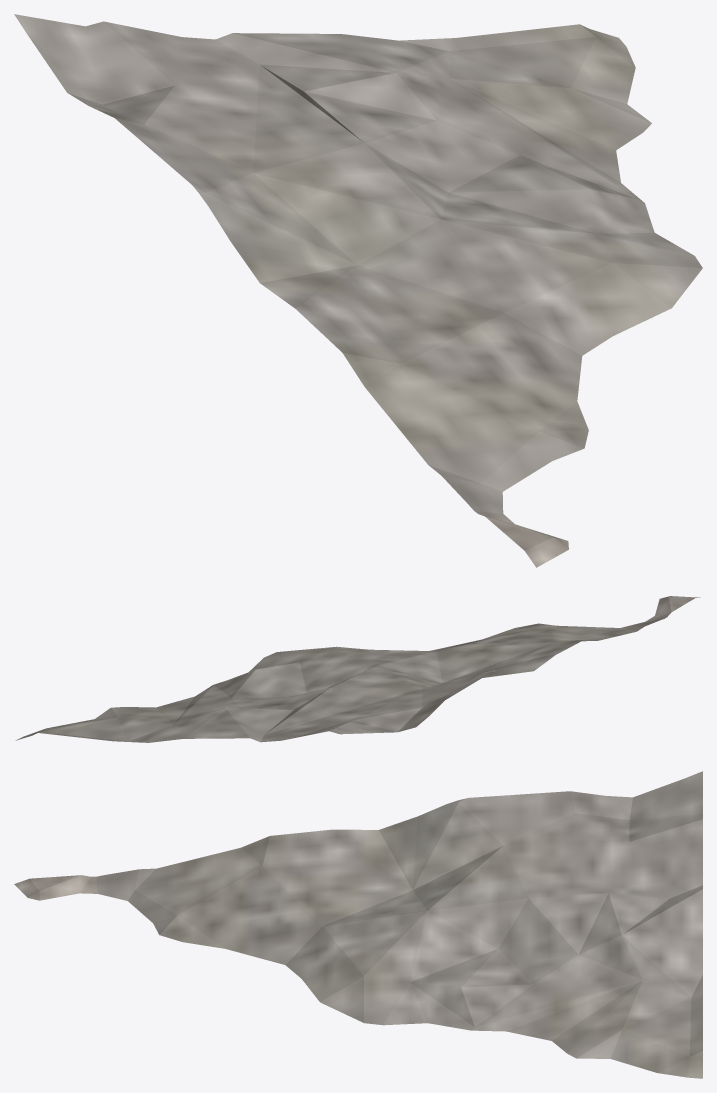
The picture shows the model from 3 angles, top to bottom: view 1: azimuth 30°, elevation 25°; view 2: azimuth 150°, elevation 25°; view 3: azimuth 270°, elevation 25°; orthographic projection. The views are drawn at different scales.
Size of the model in its own units: 0.2937 by 0.0795 by 0.4393.
1 material, 1 textured.
